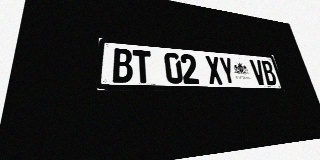0: (164, 52, 183, 84)
2: (180, 53, 199, 84)
B: (113, 48, 133, 83), (260, 60, 278, 85)
T: (133, 50, 153, 83)
V: (249, 59, 267, 85)
X: (205, 56, 224, 84)
Y: (218, 57, 237, 85)
